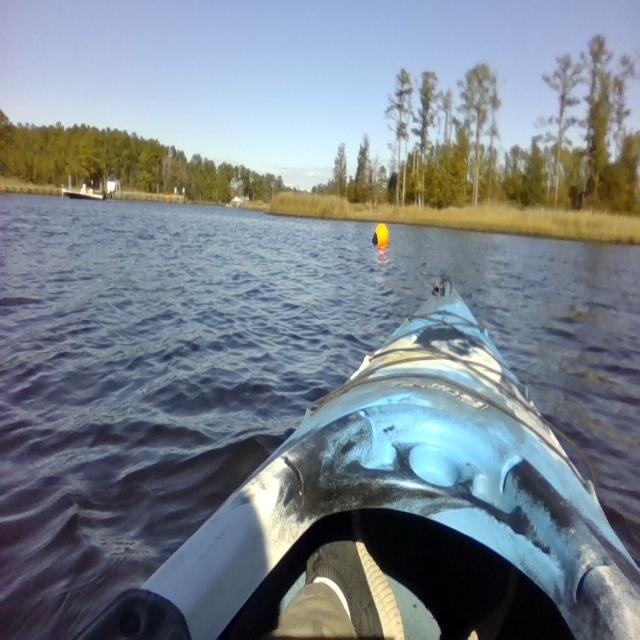Buoy: (371, 220, 390, 250)
